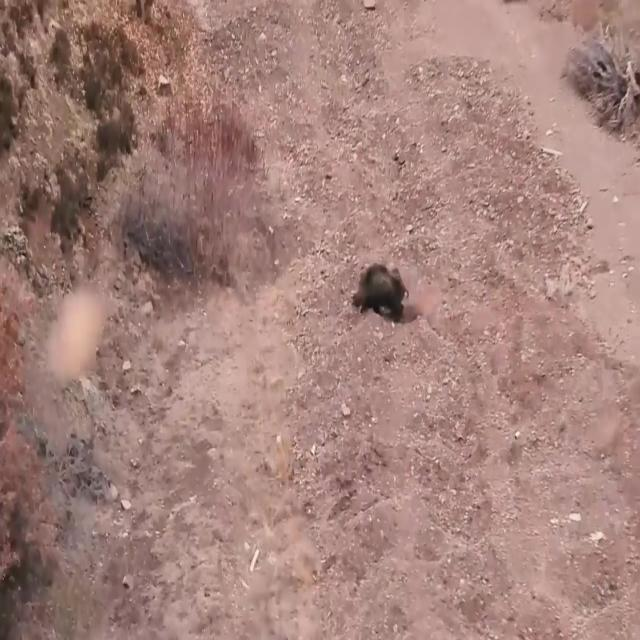pig: (342, 246, 412, 334)
